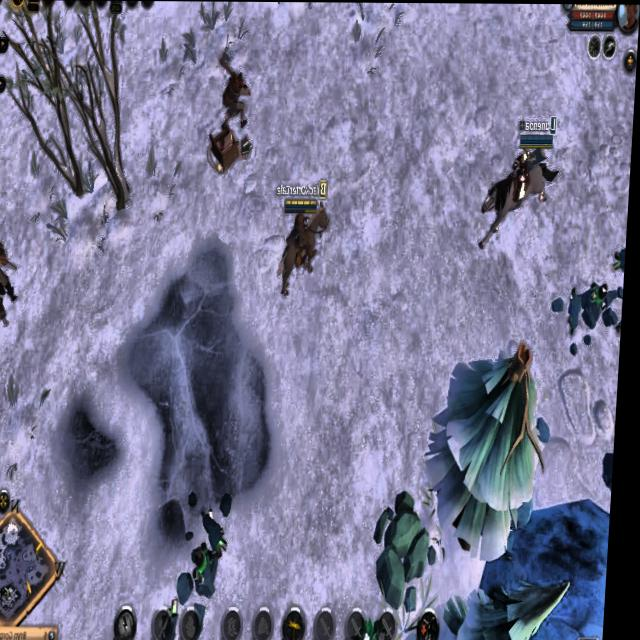tinore: (580, 267, 612, 338), (194, 543, 230, 598)
